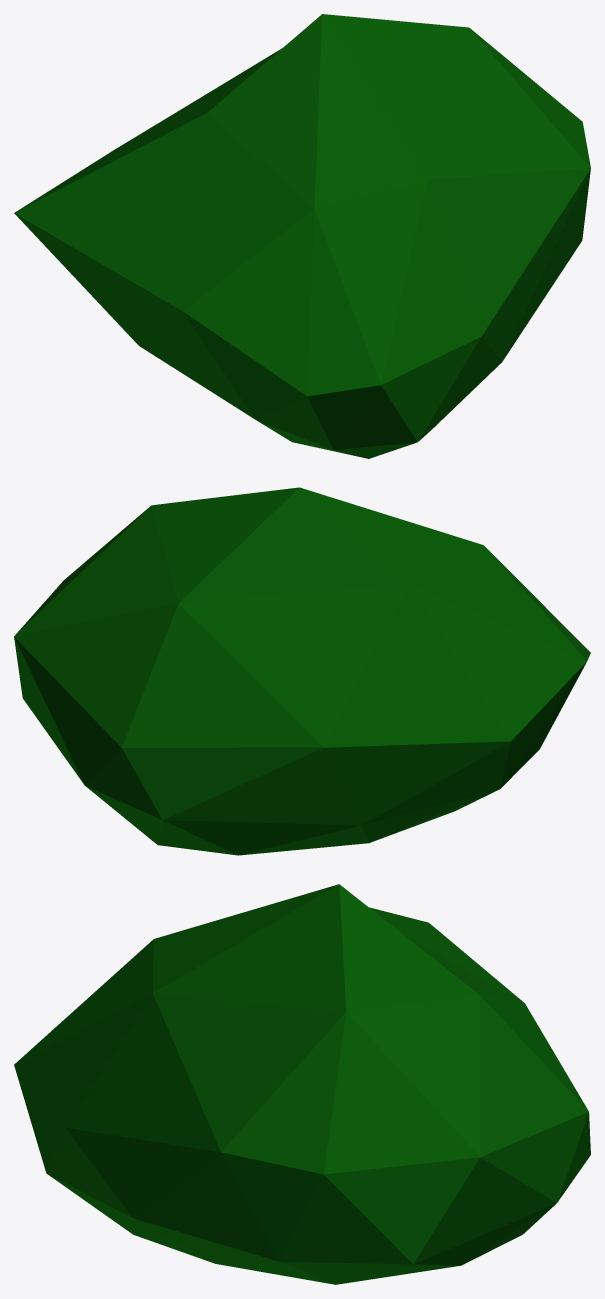
File: Arbusto_2.fbx
3 renders of one model, top to bottom at view 1: azimuth 30°, elevation 25°; view 2: azimuth 150°, elevation 25°; view 3: azimuth 270°, elevation 25°, orthographic. The views are drawn at different scales.
Parts seen in each view (by area): view 1: Arbusto_2; view 2: Arbusto_2; view 3: Arbusto_2.
Part boxes in pixels (bbox=[...]): Arbusto_2: bbox=[14, 14, 590, 458]; Arbusto_2: bbox=[14, 487, 590, 855]; Arbusto_2: bbox=[14, 884, 590, 1284].
Size of the model in its own units: 412 by 269 by 394.
